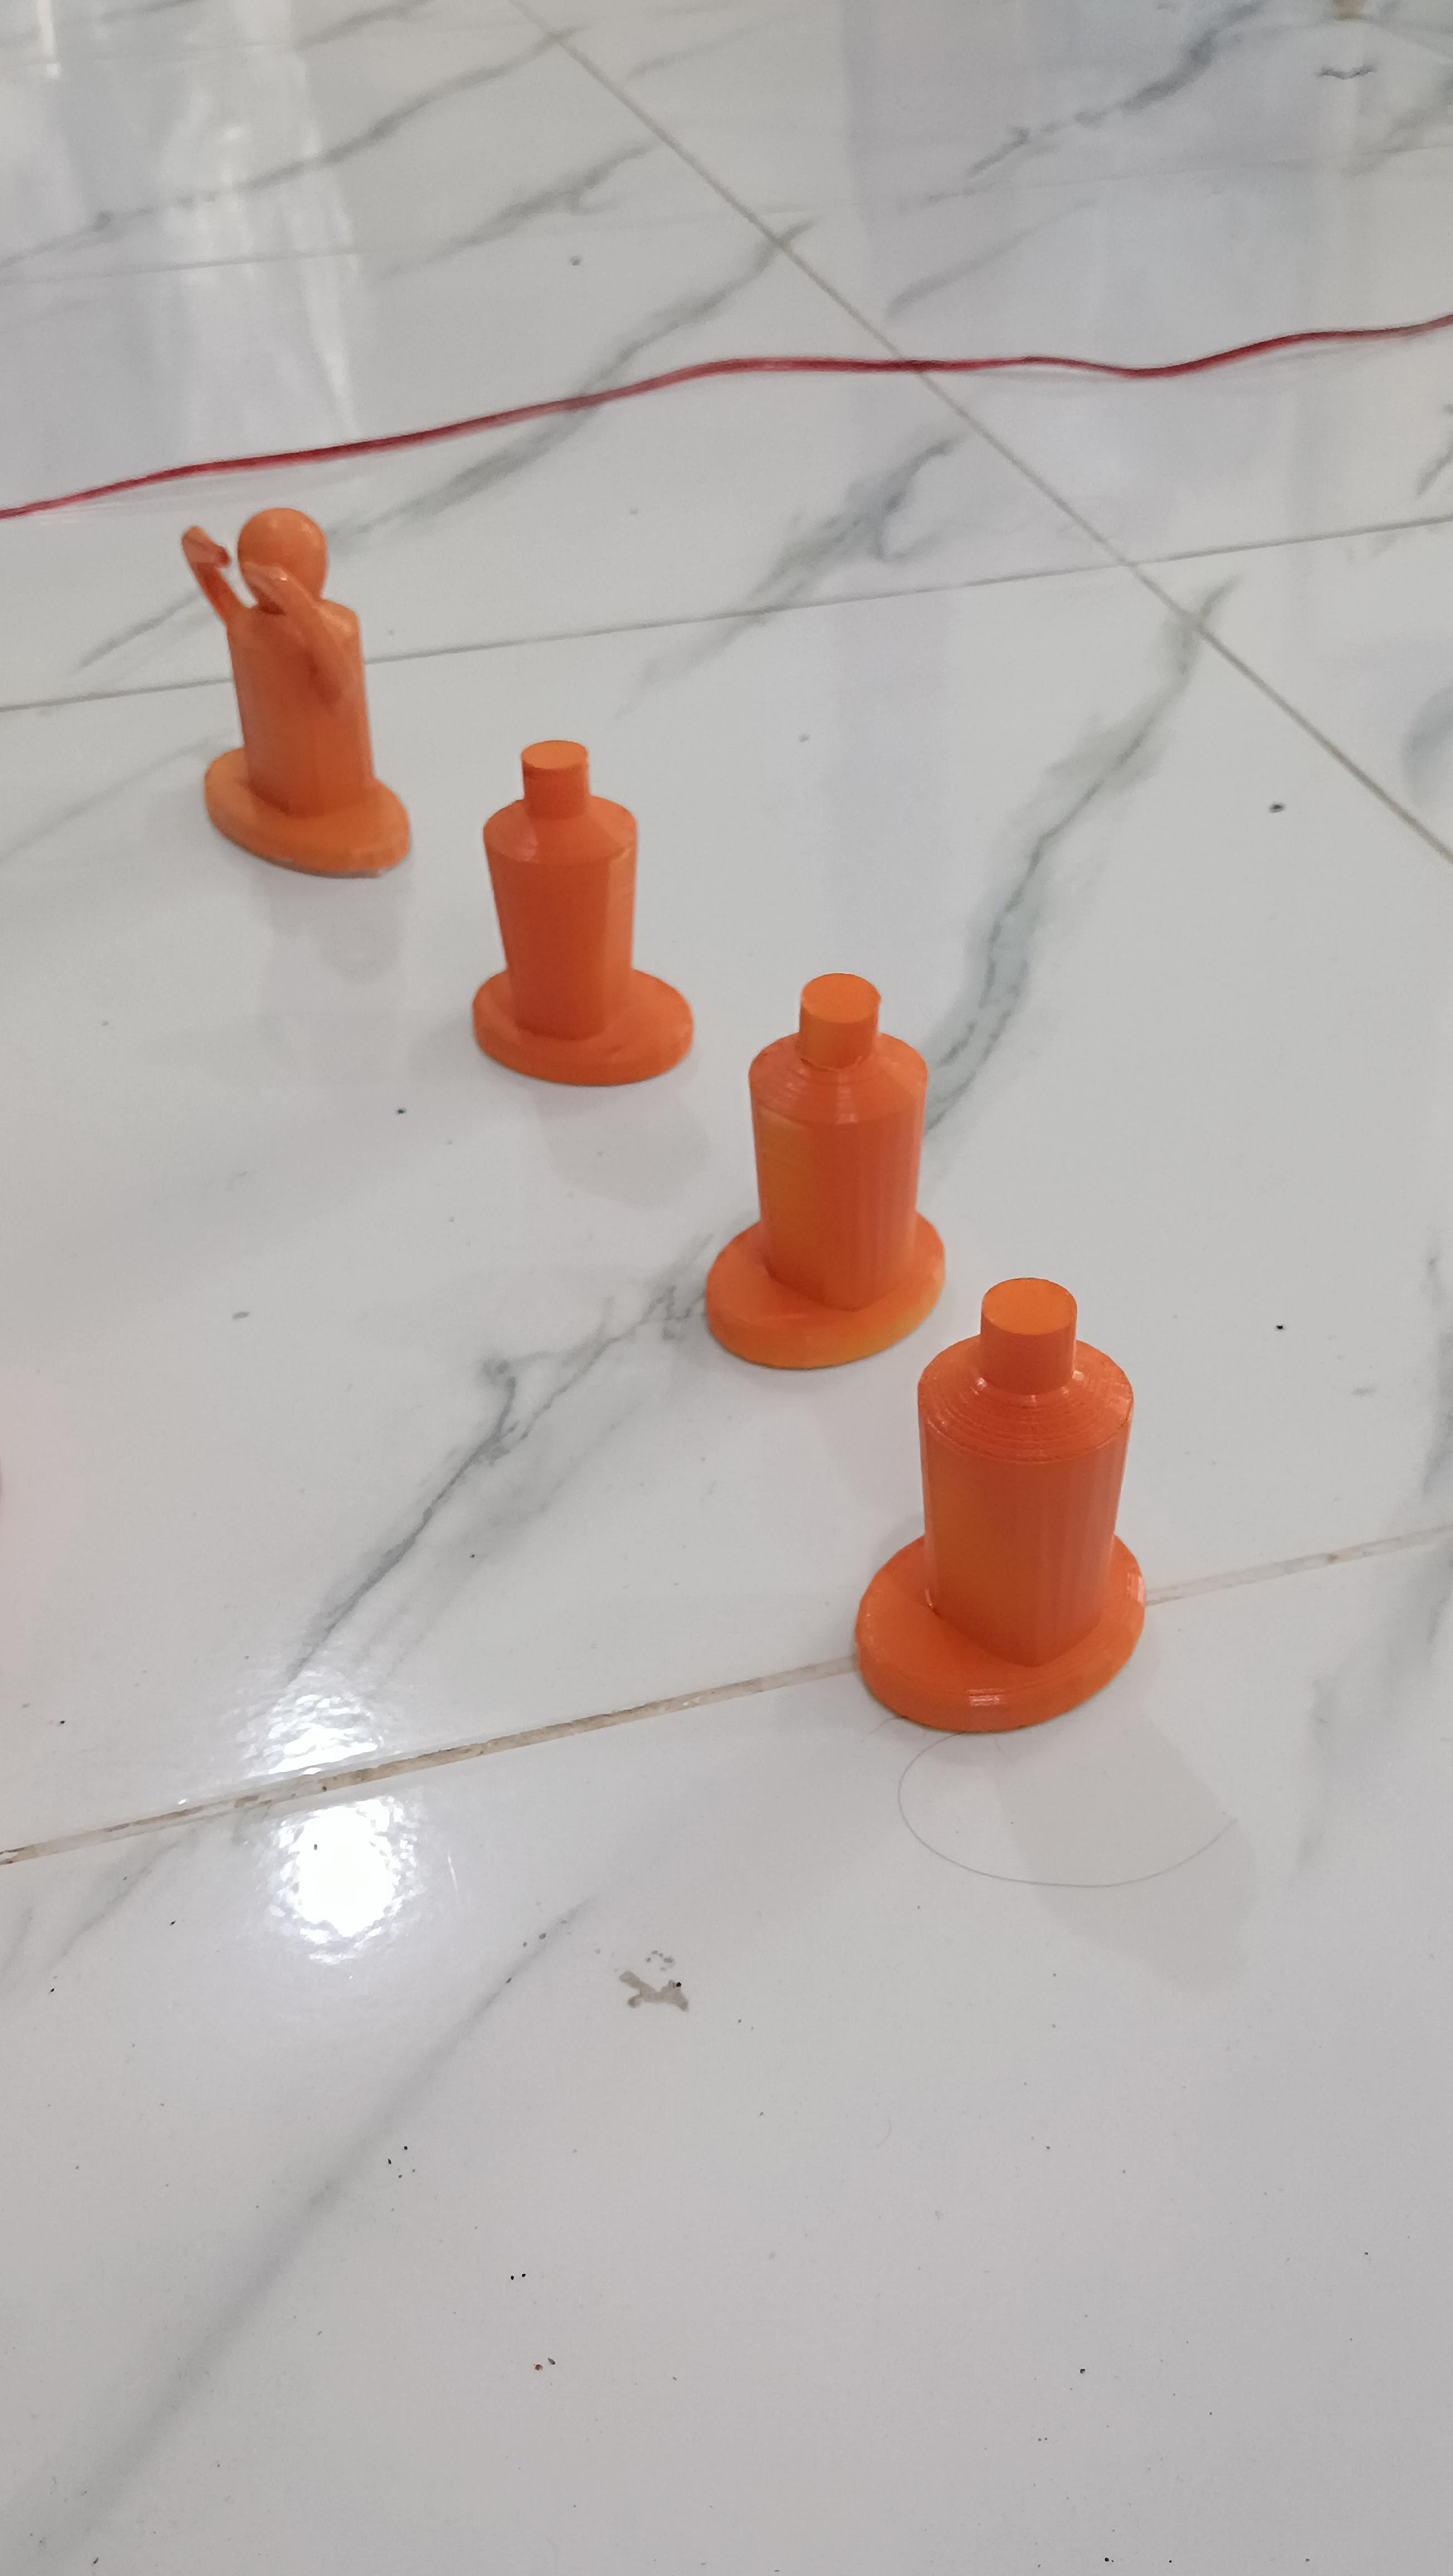dummy: (896, 1267, 1167, 1760), (454, 719, 706, 1117), (730, 944, 952, 1362)
real_person: (131, 462, 429, 893)
